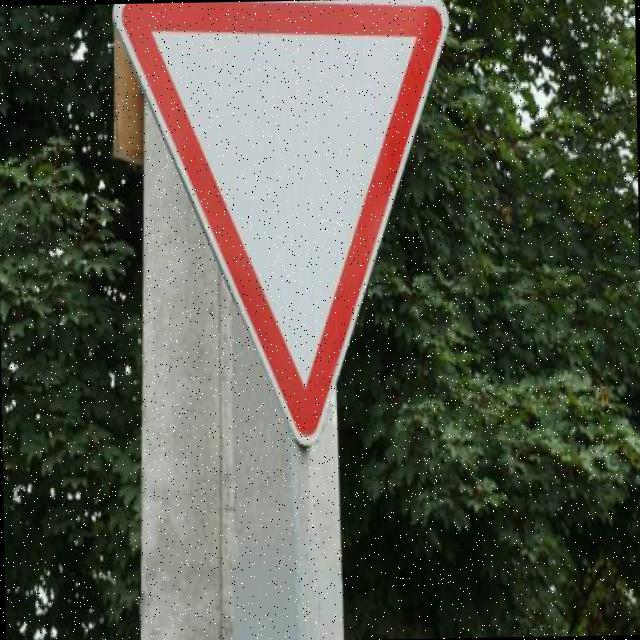give_way: (109, 0, 462, 454)
